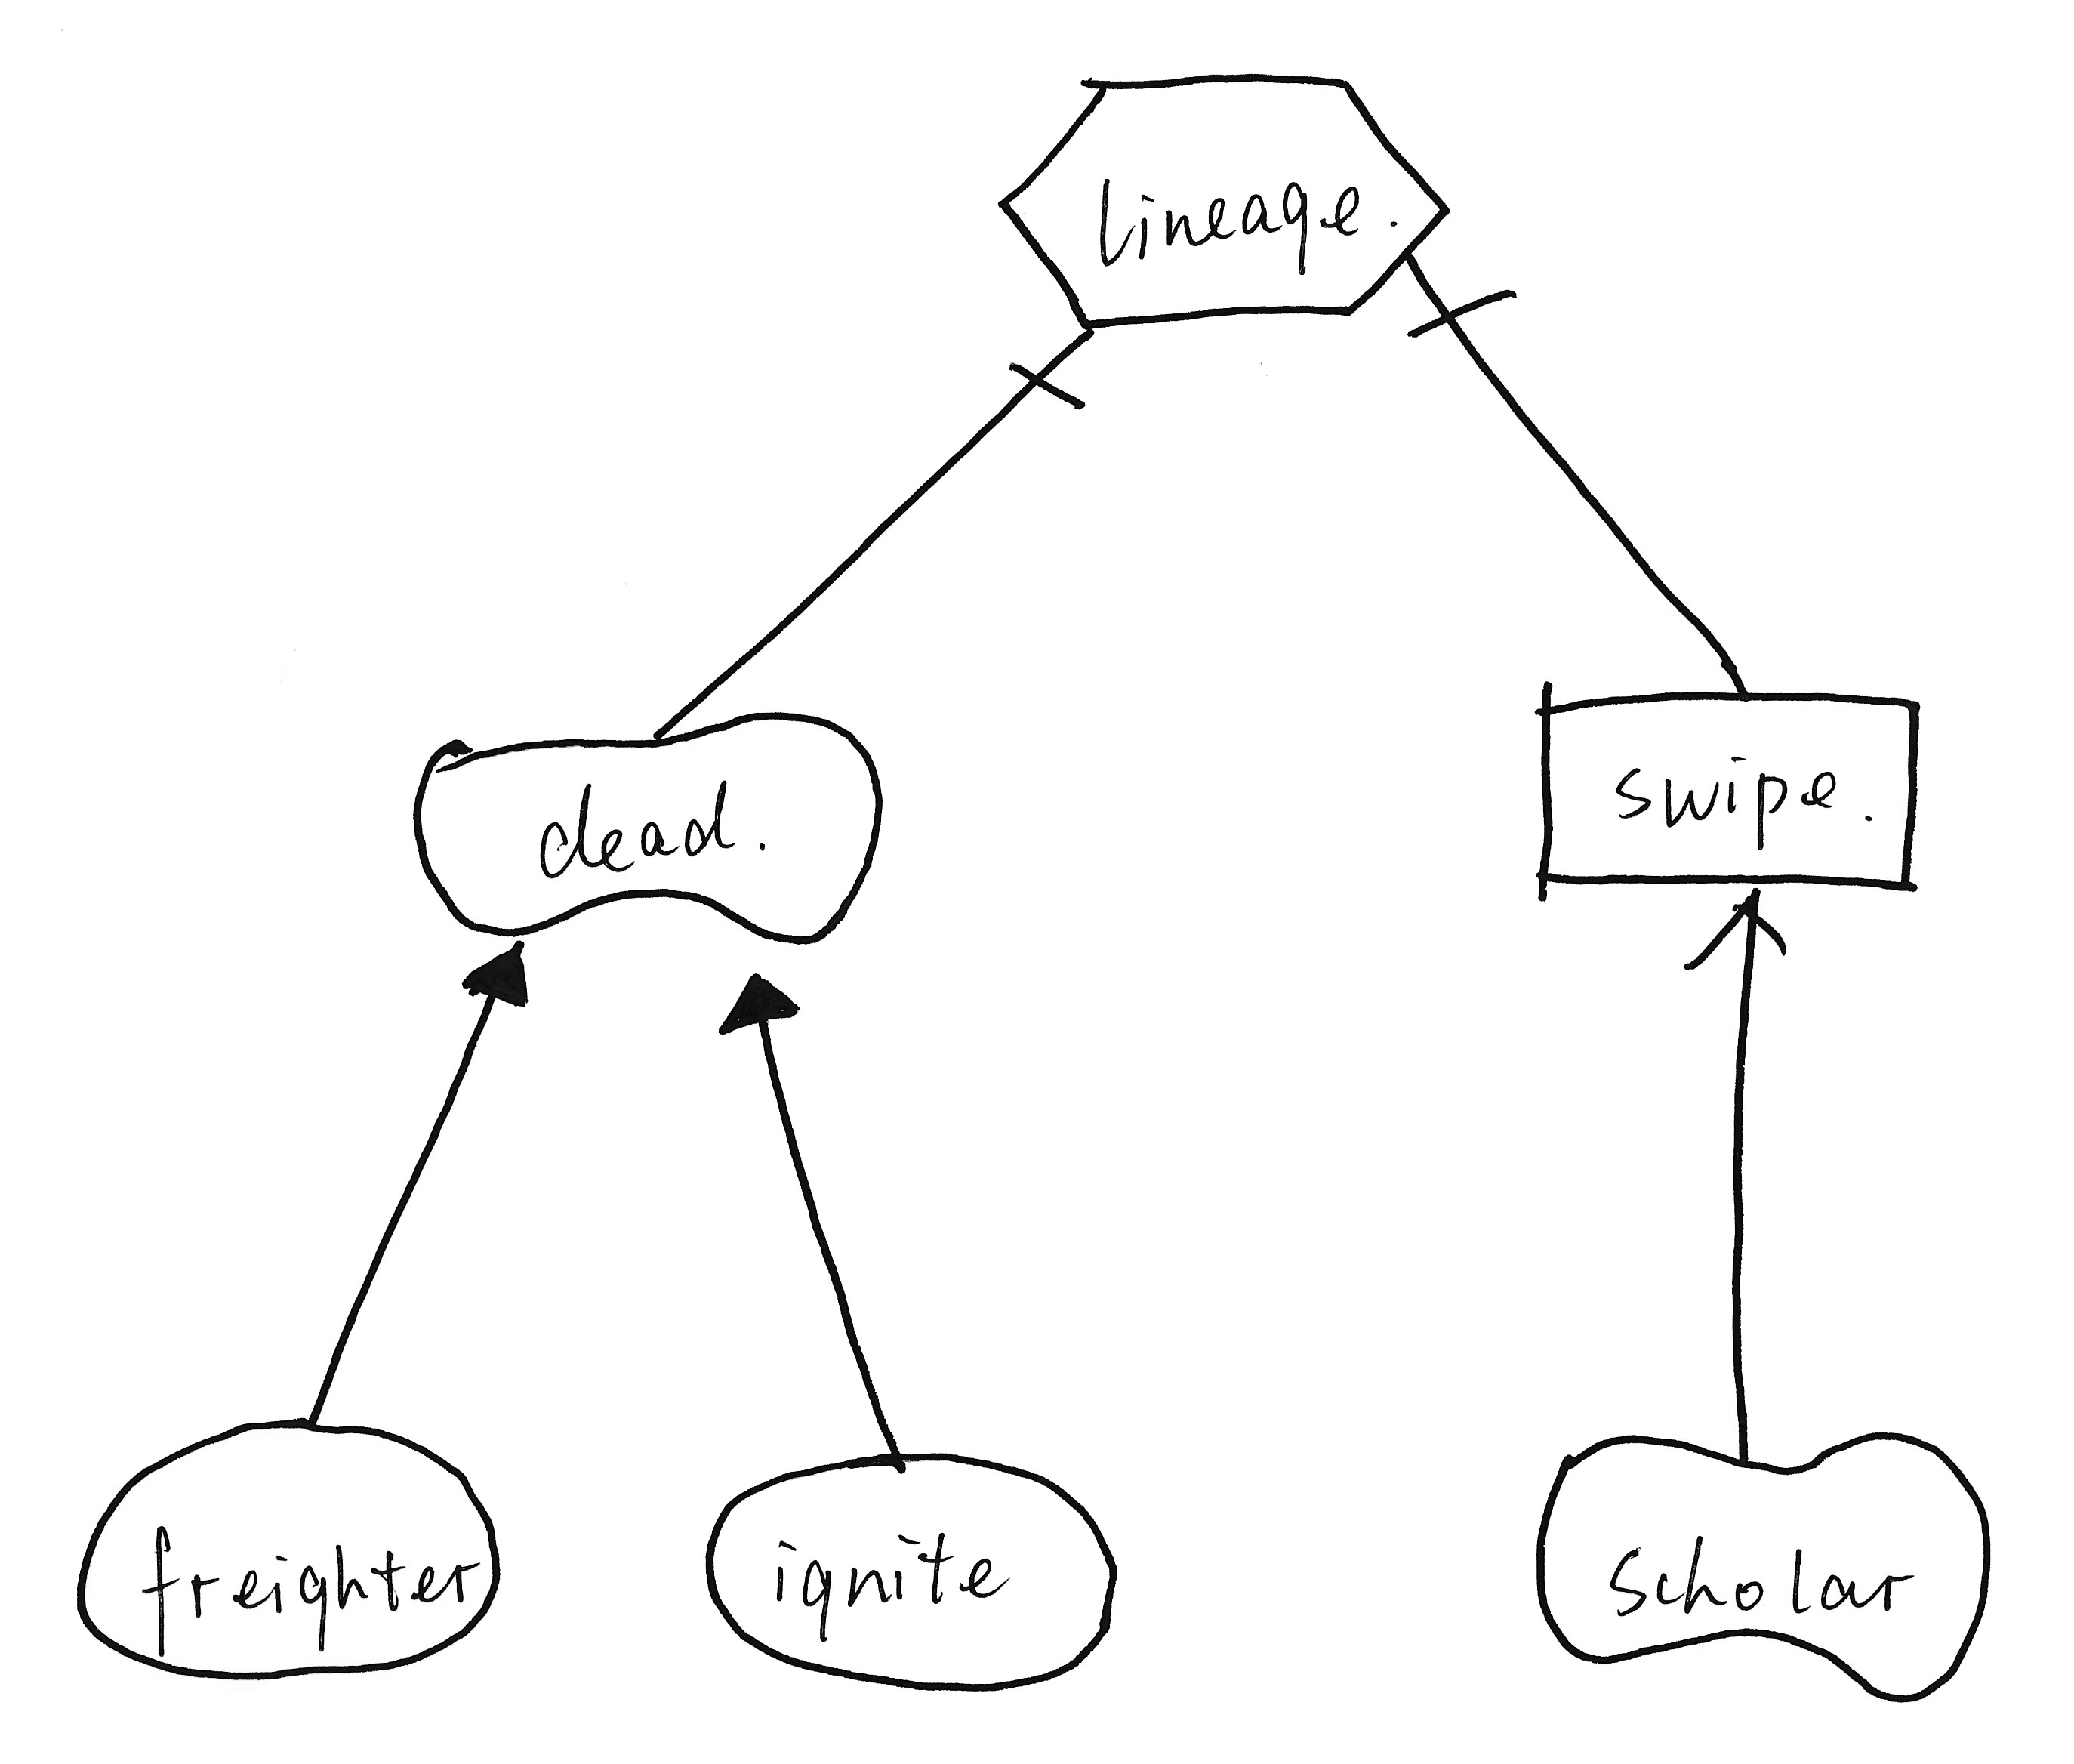and: (987, 320, 1110, 432), (1391, 276, 1538, 359)
arrow: (1663, 887, 1804, 989)
goal: (56, 1396, 515, 1692), (686, 1431, 1136, 1704)
or: (700, 964, 814, 1053), (443, 931, 550, 1017)
quality: (1516, 1417, 2013, 1718), (403, 695, 896, 957)
resource: (1516, 665, 1934, 920)
task: (985, 44, 1453, 341)
